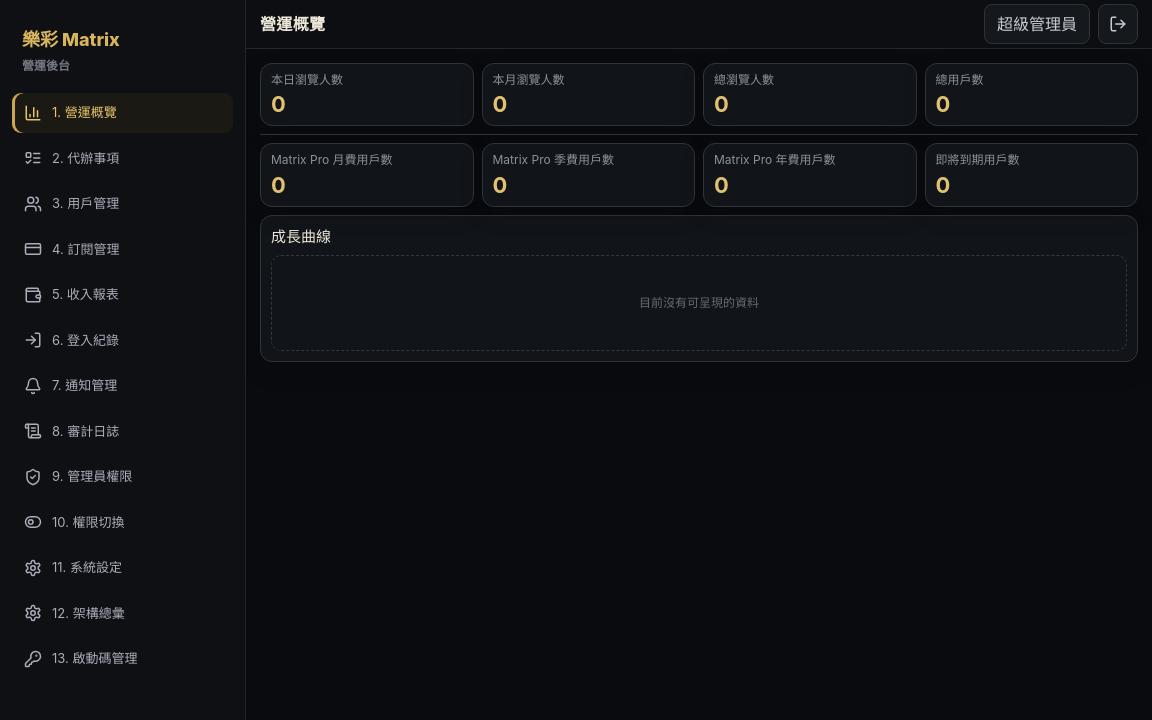
Test case: administrator operation permission editing › disables protected credentials, role, status and deletion for a different super administrator
Click the button "9. 管理員權限": [122, 477] box [12, 457, 233, 496]
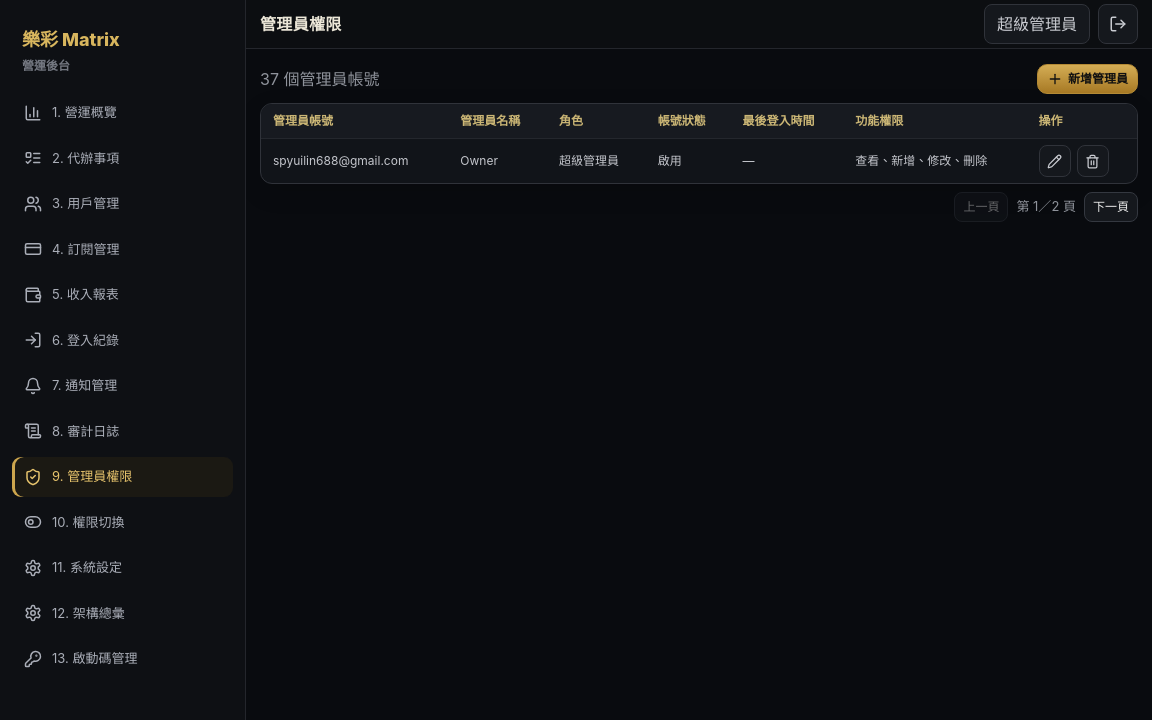
Now the button named "刪除管理員 spyuilin688@gmail.com" is disabled, box [1076, 145, 1108, 177]
Click the button named "編輯管理員 spyuilin688@gmail.com": [1054, 161] box [1038, 145, 1070, 177]
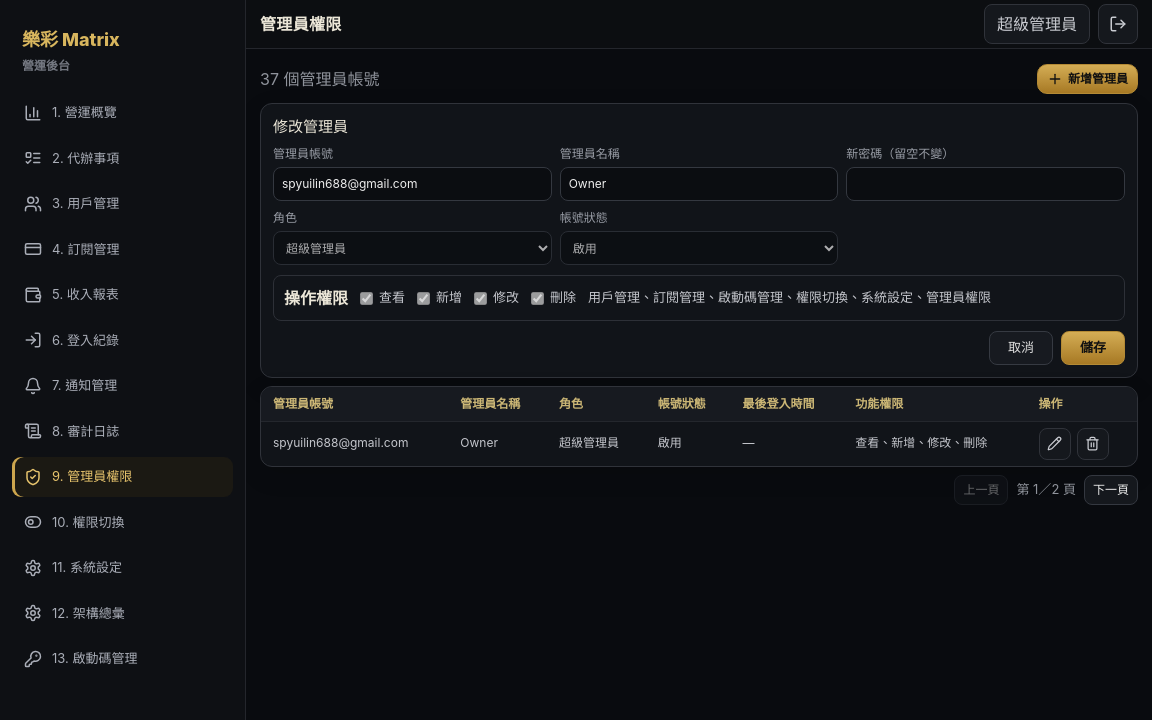
Now the field labelled "管理員帳號" is disabled, box [273, 167, 552, 201]
Now the password field labelled "新密碼（留空不變）" is disabled, box [846, 167, 1125, 201]
Now the dropdown labelled "角色" is disabled, box [273, 231, 552, 265]
